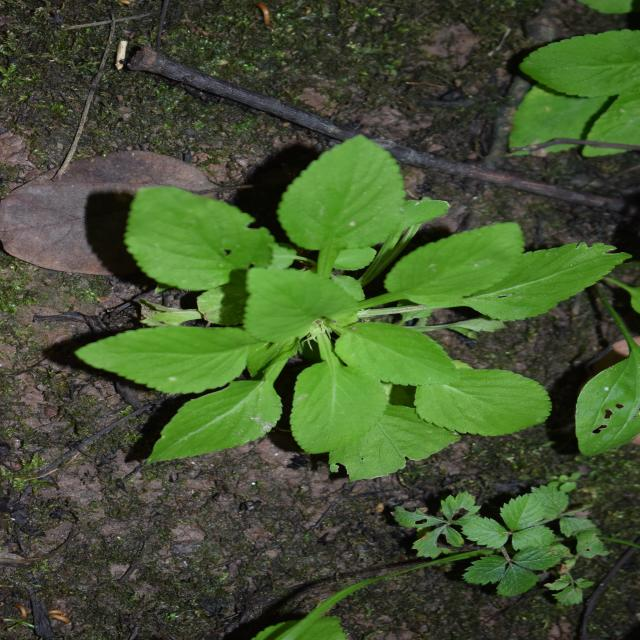Viola: (162, 43, 468, 550)
